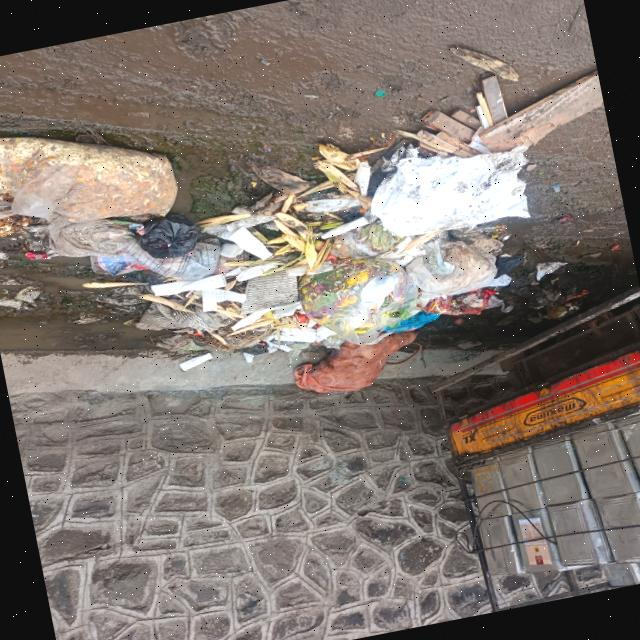garbage: (5, 45, 548, 442)
